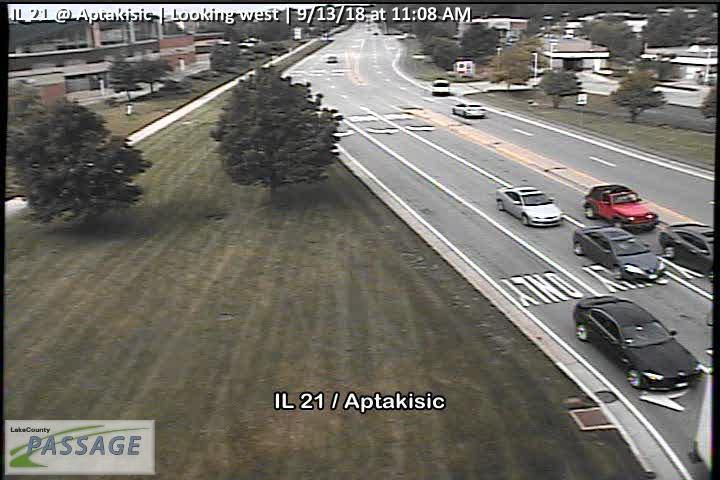SUV: (431, 77, 449, 95)
Sedan: (572, 296, 703, 390), (573, 225, 664, 282), (584, 183, 656, 232), (658, 220, 715, 276), (496, 184, 563, 227), (453, 100, 486, 119)
